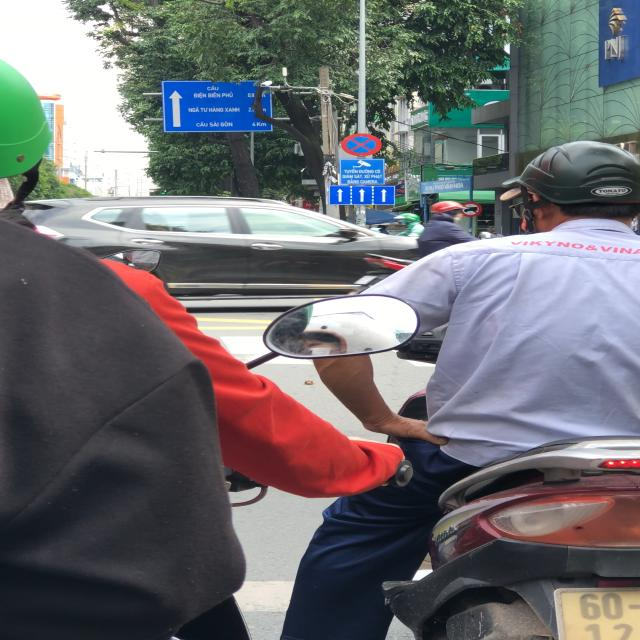Bien bao cam dung xe va do xe: (340, 130, 384, 158)
